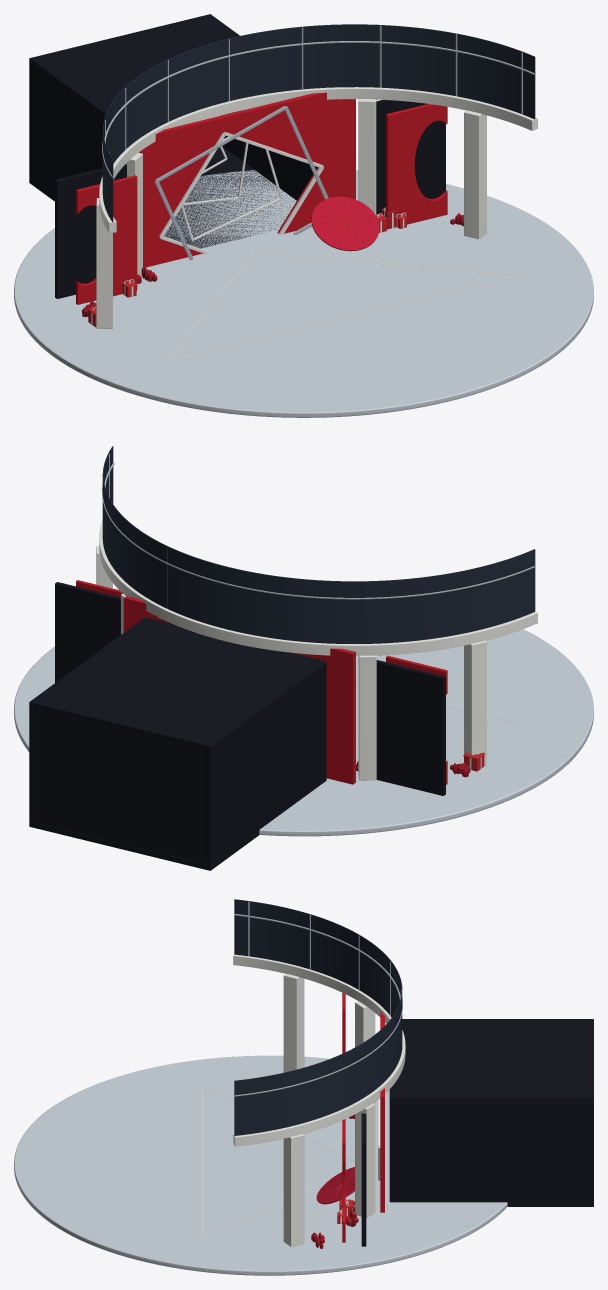
File: R07_twistframe_hall.glb
3 views of the same model, one above another, from view 1: azimuth 30°, elevation 25°; view 2: azimuth 150°, elevation 25°; view 3: azimuth 270°, elevation 25° (orthographic). The views are drawn at different scales.
Visible parts, largest first — view 1: finite pale stage slab, upper curved dark glazing, central red facade with real opening, tunnel upper dark return, tunnel left return, white curved upper fascia, inferred continuous tunnel floor, right red screen, left dark bay return, left red screen, right dark bay return, tilted crimson circular disc (+7 smaller); view 2: finite pale stage slab, upper curved dark glazing, tunnel upper dark return, tunnel distant dark stop, tunnel left return, left dark bay return, white curved upper fascia, central red facade with real opening, right dark bay return, white pier -59, white pier -33, inferred continuous tunnel floor (+2 smaller); view 3: finite pale stage slab, tunnel right return, upper curved dark glazing, tunnel upper dark return, white curved upper fascia, white pier +59, white pier -59, white pier +33, tilted crimson circular disc, upper narrow glazing rail, right dark bay return, white pier -33 (+2 smaller).
Boxes of the visible parts, left/top/right/bottom form: finite pale stage slab: left=14, top=170, right=593, bottom=417; upper curved dark glazing: left=102, top=24, right=535, bottom=222; central red facade with real opening: left=139, top=92, right=355, bottom=267; tunnel upper dark return: left=29, top=14, right=239, bottom=115; tunnel left return: left=29, top=60, right=105, bottom=195; white curved upper fascia: left=99, top=87, right=537, bottom=233; inferred continuous tunnel floor: left=29, top=146, right=294, bottom=248; right red screen: left=386, top=104, right=447, bottom=228; left dark bay return: left=55, top=164, right=126, bottom=298; left red screen: left=76, top=175, right=137, bottom=304; right dark bay return: left=376, top=100, right=445, bottom=214; tilted crimson circular disc: left=311, top=196, right=379, bottom=251; finite pale stage slab: left=14, top=629, right=593, bottom=836; upper curved dark glazing: left=102, top=446, right=535, bottom=643; tunnel upper dark return: left=29, top=617, right=326, bottom=747; tunnel distant dark stop: left=34, top=706, right=205, bottom=863; tunnel left return: left=206, top=663, right=326, bottom=865; left dark bay return: left=376, top=660, right=445, bottom=795; white curved upper fascia: left=99, top=521, right=537, bottom=655; central red facade with real opening: left=123, top=596, right=355, bottom=784; right dark bay return: left=55, top=582, right=120, bottom=682; white pier -59: left=464, top=640, right=486, bottom=765; white pier -33: left=358, top=655, right=376, bottom=780; inferred continuous tunnel floor: left=29, top=821, right=259, bottom=870; finite pale stage slab: left=14, top=1055, right=507, bottom=1275; tunnel right return: left=389, top=1098, right=593, bottom=1202; upper curved dark glazing: left=234, top=899, right=402, bottom=1135; tunnel upper dark return: left=389, top=1019, right=593, bottom=1098; white curved upper fascia: left=233, top=954, right=405, bottom=1146; white pier +59: left=283, top=1134, right=304, bottom=1246; white pier -59: left=283, top=973, right=304, bottom=1072; white pier +33: left=355, top=1103, right=375, bottom=1217; tilted crimson circular disc: left=316, top=1167, right=354, bottom=1204; upper narrow glazing rail: left=234, top=914, right=402, bottom=1096; right dark bay return: left=361, top=1113, right=366, bottom=1246; white pier -33: left=355, top=1001, right=375, bottom=1103.
Bounding box in the file's own units: 23 × 8.84 × 26.1.
